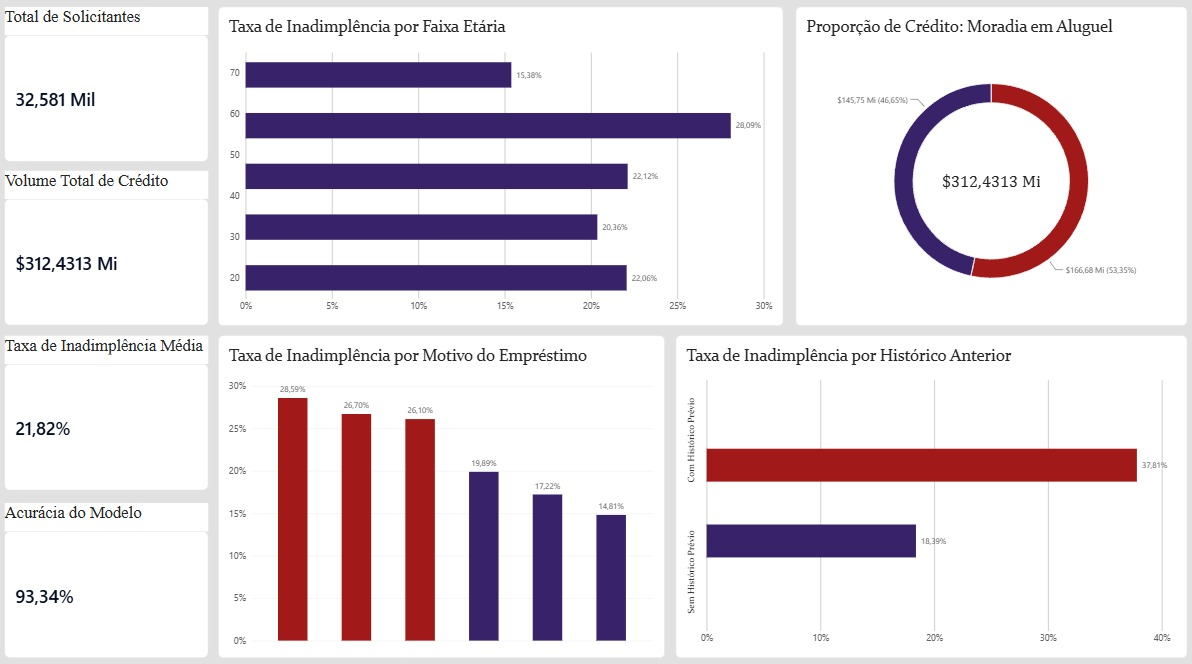

Layout of this report page (visuals, bound fields, positions):
{"tool":"powerbi","page":{"name":"Página 1","canvas":[1920,1080],"ordinal":0},"visuals":[{"type":"cardVisual","title":"Volume Total de Crédito","fields":{"Data":["Sum(credit_risk_processado.loan_amnt)"]},"box":[12,276,326,248],"z":0},{"type":"cardVisual","title":"Taxa de Inadimplência Média","fields":{"Data":["Avg(credit_risk_processado.loan_status)"]},"box":[12,540,326,248],"z":1000},{"type":"cardVisual","title":"Total de Solicitantes","fields":{"Data":["CountNonNull(credit_risk_processado.person_age)"]},"box":[12,14,326,248],"z":2000},{"type":"cardVisual","title":"Acurácia do Modelo","fields":{"Data":["credit_risk_processado.Acuracia"]},"box":[12,808,326,248],"z":3000},{"type":"barChart","title":"Taxa de Inadimplência por Faixa Etária","fields":{"Category":["credit_risk_processado.person_age (compartimentos)"],"Y":["Avg(credit_risk_processado.loan_status)"]},"box":[354,14,904,510],"z":3001},{"type":"donutChart","title":"Proporção de Crédito: Moradia em Aluguel","fields":{"Category":["credit_risk_processado.person_home_ownership_RENT"],"Y":["Sum(credit_risk_processado.loan_amnt)"]},"box":[1278,14,626,510],"z":3002},{"type":"barChart","title":"Taxa de Inadimplência por Histórico Anterior","fields":{"Category":["credit_risk_processado.cb_person_default_on_file_N","credit_risk_processado.cb_person_default_on_file_Y"],"Y":["Avg(credit_risk_processado.loan_status)"]},"box":[1086,540,818,516],"z":3003},{"type":"columnChart","title":"Taxa de Inadimplência por Motivo do Empréstimo","fields":{"Category":["credit_risk_processado.loan_intent_DEBTCONSOLIDATION","credit_risk_processado.loan_intent_EDUCATION","credit_risk_processado.loan_intent_HOMEIMPROVEMENT","credit_risk_processado.loan_intent_MEDICAL","credit_risk_processado.loan_intent_PERSONAL","credit_risk_processado.loan_intent_VENTURE"],"Y":["Avg(credit_risk_processado.loan_status)"]},"box":[354,540,714,516],"z":3004}]}

Visuals, with their boxes in screenshot pixels (x1, y1, x2, y2), scaled from the page's 1920x1080 canvas onto the 1192x664 screenshot:
"Volume Total de Crédito" cardVisual: (left=7, top=170, right=210, bottom=322)
"Taxa de Inadimplência Média" cardVisual: (left=7, top=332, right=210, bottom=484)
"Total de Solicitantes" cardVisual: (left=7, top=9, right=210, bottom=161)
"Acurácia do Modelo" cardVisual: (left=7, top=497, right=210, bottom=649)
"Taxa de Inadimplência por Faixa Etária" barChart: (left=220, top=9, right=781, bottom=322)
"Proporção de Crédito: Moradia em Aluguel" donutChart: (left=793, top=9, right=1182, bottom=322)
"Taxa de Inadimplência por Histórico Anterior" barChart: (left=674, top=332, right=1182, bottom=649)
"Taxa de Inadimplência por Motivo do Empréstimo" columnChart: (left=220, top=332, right=663, bottom=649)
